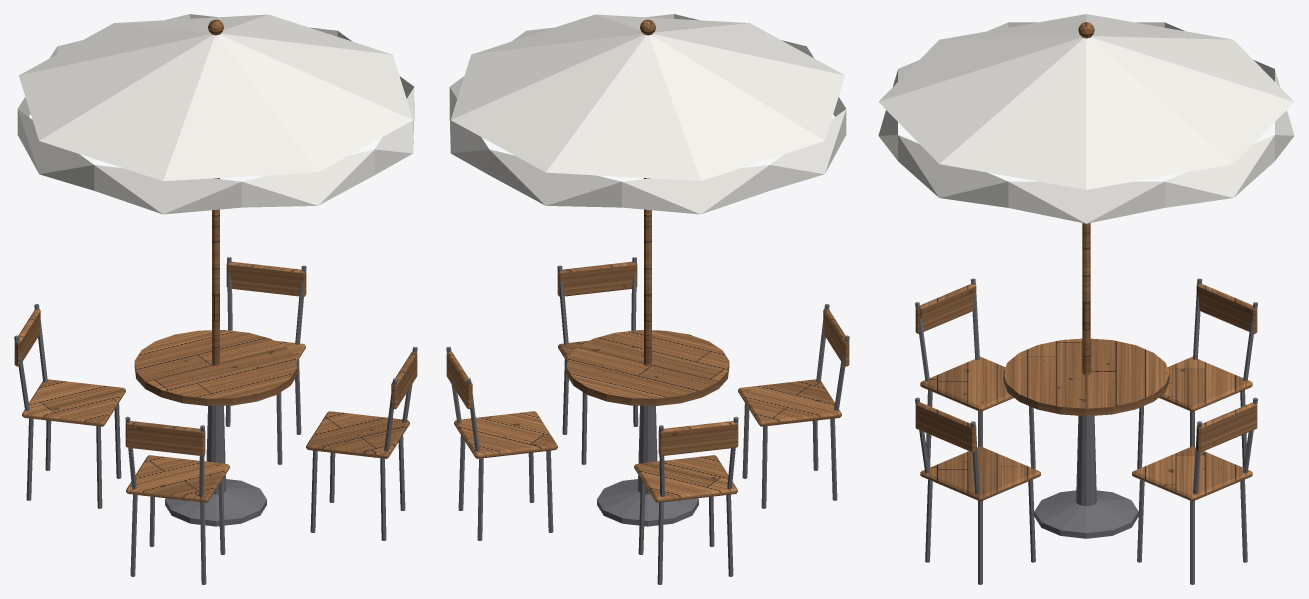
Rendered from umbrella_table_w.glb.
The picture shows the model from 3 angles, left to right: view 1: azimuth 30°, elevation 25°; view 2: azimuth 150°, elevation 25°; view 3: azimuth 270°, elevation 25°; orthographic projection.
Visible parts, largest first — view 1: umbrella_table_w_canvas_w, umbrella_table_w_wood, umbrella_table_w_iron; view 2: umbrella_table_w_canvas_w, umbrella_table_w_wood, umbrella_table_w_iron; view 3: umbrella_table_w_canvas_w, umbrella_table_w_wood, umbrella_table_w_iron.
Part boxes in pixels (<box>): umbrella_table_w_canvas_w: <box>17,14,414,214</box>; umbrella_table_w_wood: <box>14,19,417,502</box>; umbrella_table_w_iron: <box>14,257,417,584</box>; umbrella_table_w_canvas_w: <box>449,14,846,214</box>; umbrella_table_w_wood: <box>446,19,849,502</box>; umbrella_table_w_iron: <box>446,257,849,584</box>; umbrella_table_w_canvas_w: <box>878,14,1294,223</box>; umbrella_table_w_wood: <box>915,22,1257,501</box>; umbrella_table_w_iron: <box>915,278,1257,584</box>.
Bounding box in the file's own units: 2 × 2.62 × 2.
3 materials, 1 textured.
